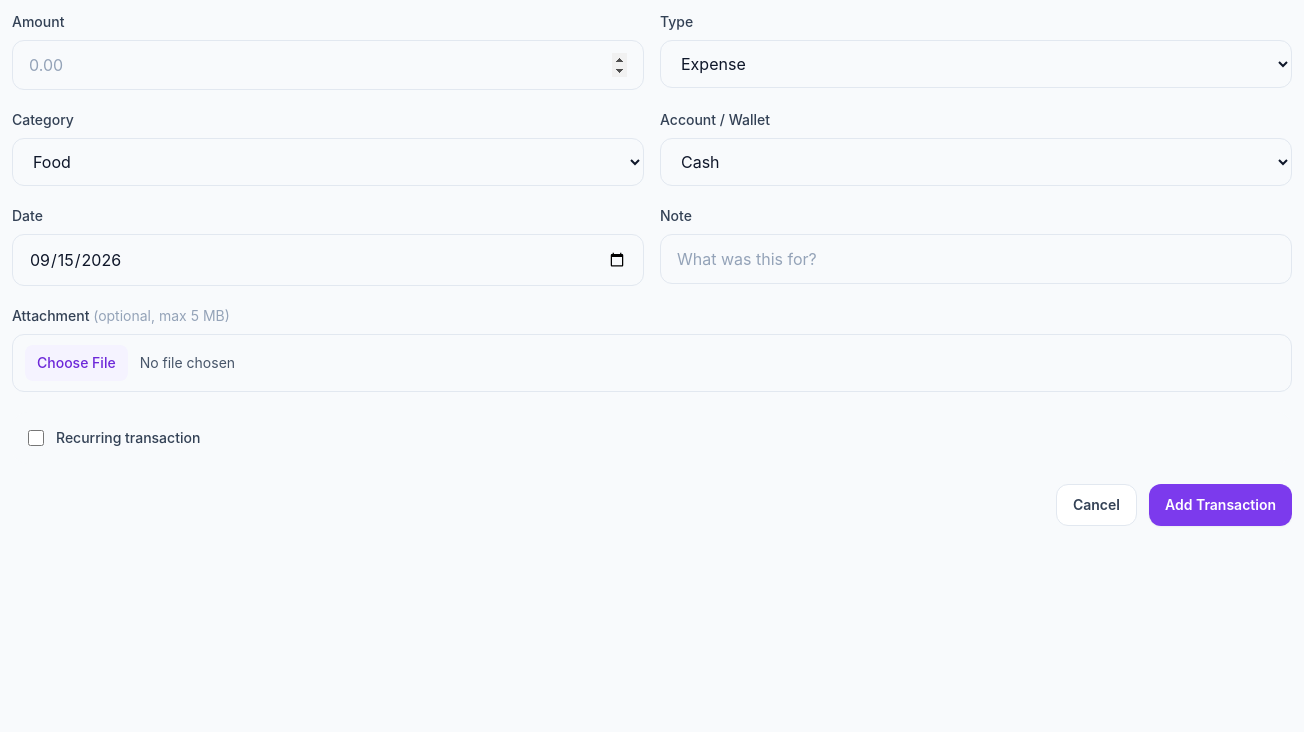
TransactionForm › rejects zero amount
In the number field labelled "Amount": (328, 65) 12,40 -> 644,90, type "0"
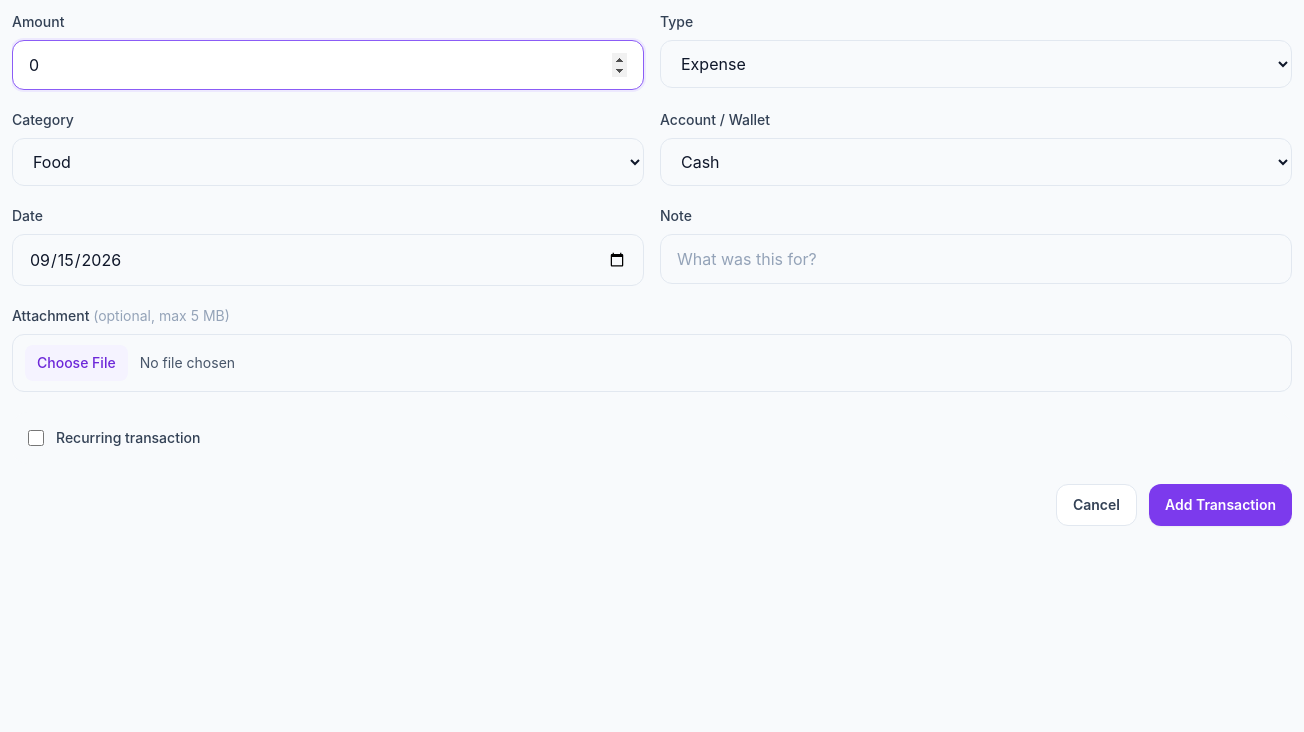
Click the button "Add Transaction": (1220, 505) 1149,484 -> 1292,526
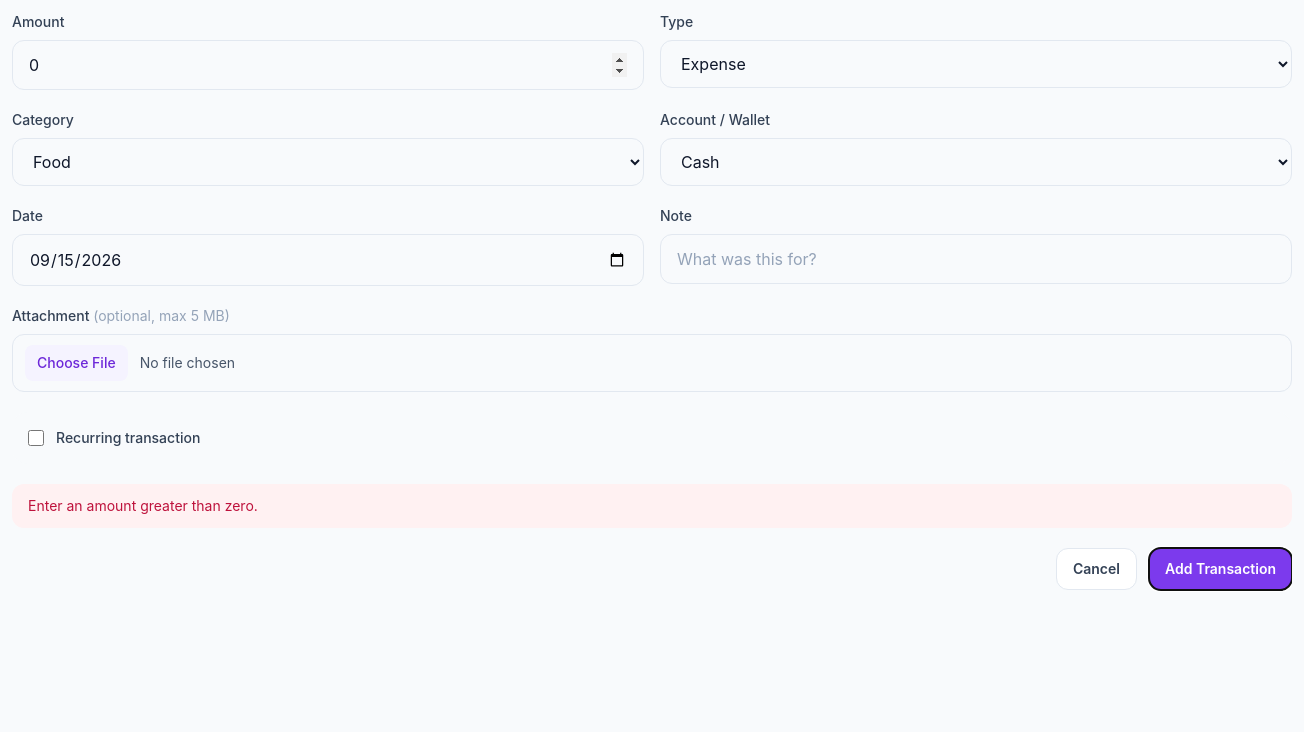
Check: the text "Enter an amount greater than zero." is shown, box 12,484 -> 1292,528
